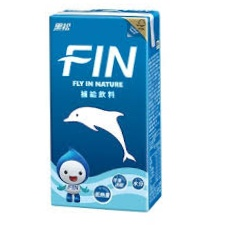鋁箔包: (47, 7, 167, 215)
